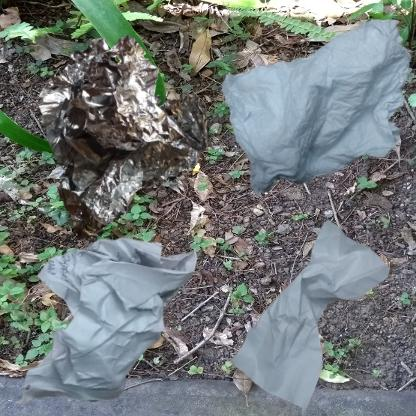aluminio: (10, 10, 255, 272)
papel: (213, 10, 416, 213), (10, 213, 211, 416), (213, 213, 411, 416)
